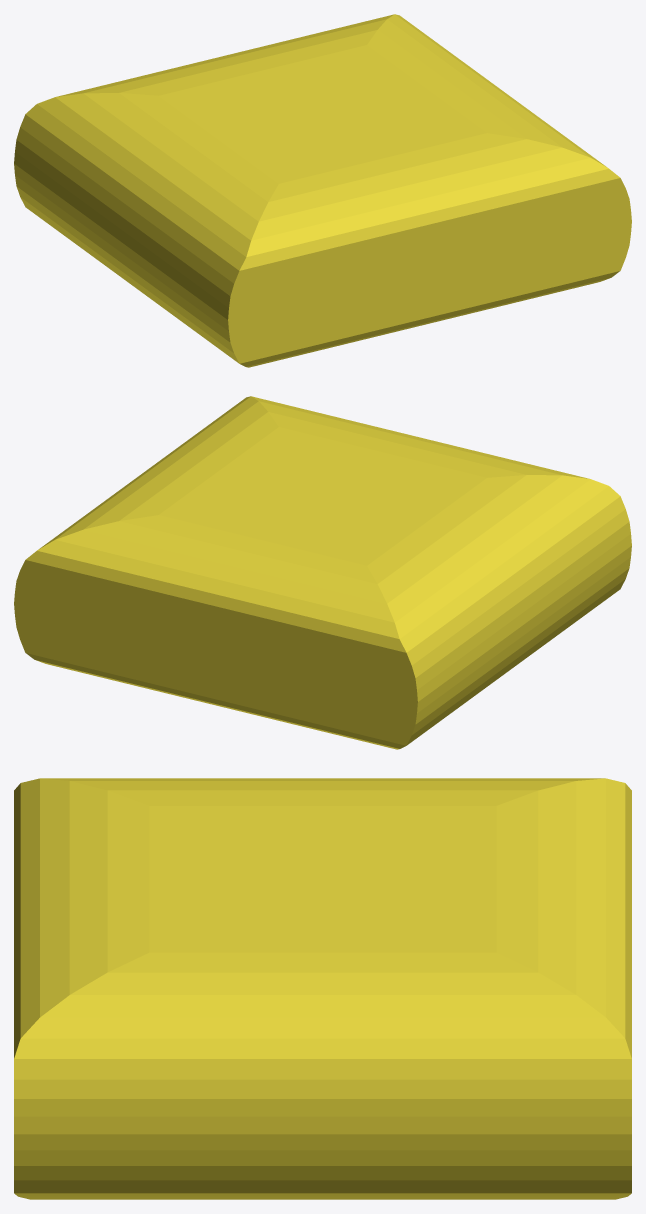
File: Telhado.fbx
3 views of the same model, one above another, from view 1: azimuth 30°, elevation 25°; view 2: azimuth 150°, elevation 25°; view 3: azimuth 270°, elevation 25° (orthographic). The views are drawn at different scales.
Parts seen in each view (by area): view 1: Telhado; view 2: Telhado; view 3: Telhado.
Part boxes in pixels (box(x1,y1,x2,y2)): Telhado: box(14, 14, 631, 367); Telhado: box(14, 396, 631, 749); Telhado: box(14, 778, 631, 1199).
Size of the model in its own units: 218 by 74.36 by 200.
